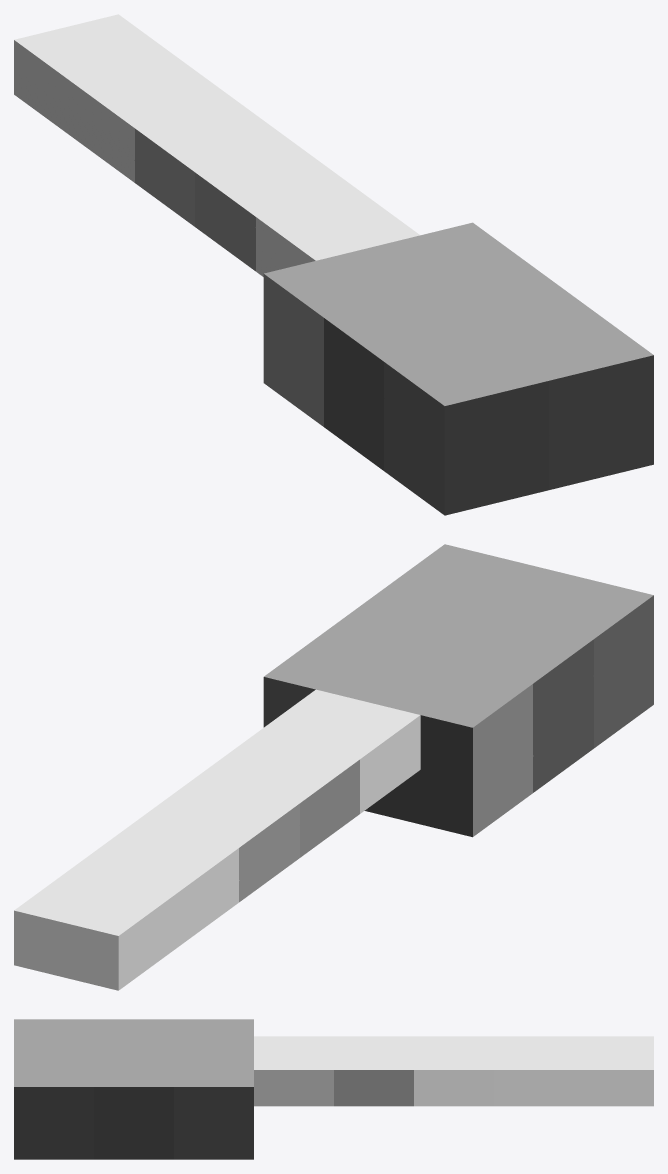
File: BlackSpoon.fbx
3 views of the same model, one above another, from view 1: azimuth 30°, elevation 25°; view 2: azimuth 150°, elevation 25°; view 3: azimuth 270°, elevation 25° (orthographic). The views are drawn at different scales.
Parts seen in each view (by area): view 1: cube_1, cube; view 2: cube_1, cube; view 3: cube_1, cube.
Part boxes in pixels (x1,y1,x2,y2): cube_1: [263, 222, 653, 515]; cube: [14, 14, 419, 276]; cube_1: [263, 544, 653, 837]; cube: [14, 689, 420, 990]; cube_1: [14, 1019, 253, 1159]; cube: [254, 1036, 653, 1106].
Size of the model in its own units: 12.5 by 6.25 by 50.
1 material, 1 textured.
